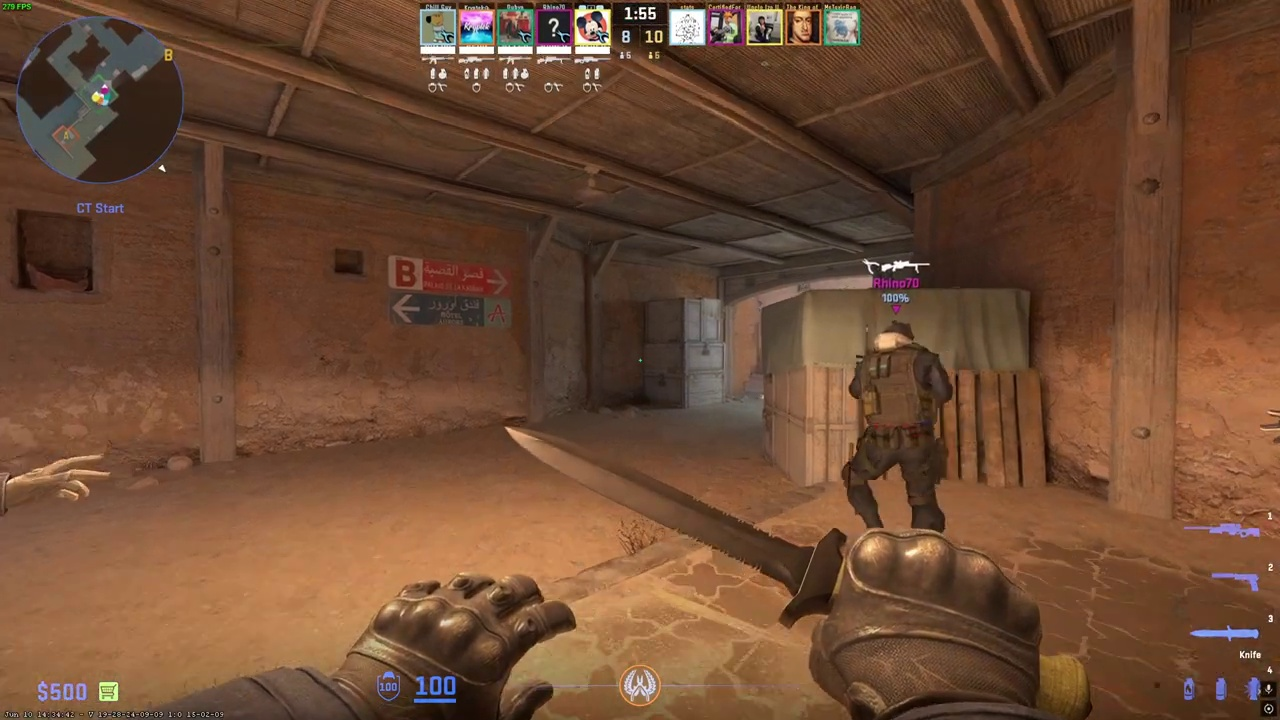CT: (841, 320, 954, 533)
